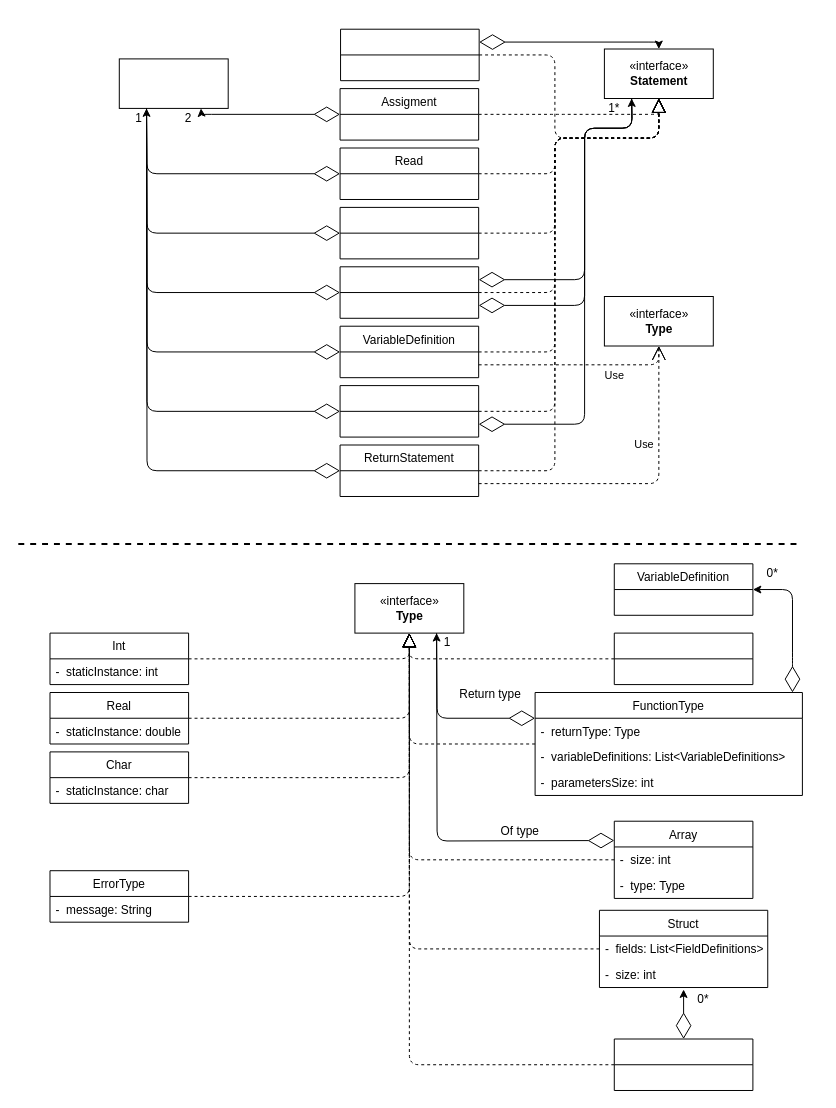
Image size: 836x1108. Some labels were removed from this diagram. Each missing label, with the centre of its shape:
"FieldDefinition" goes at (683,1064).
"FunctionDefinition" goes at (409,54).
"IfStatement" goes at (409,292).
"Void" goes at (683,658).
"While" goes at (409,411).
"Write" goes at (409,232).
"«interface» Expression" goes at (173,83).
